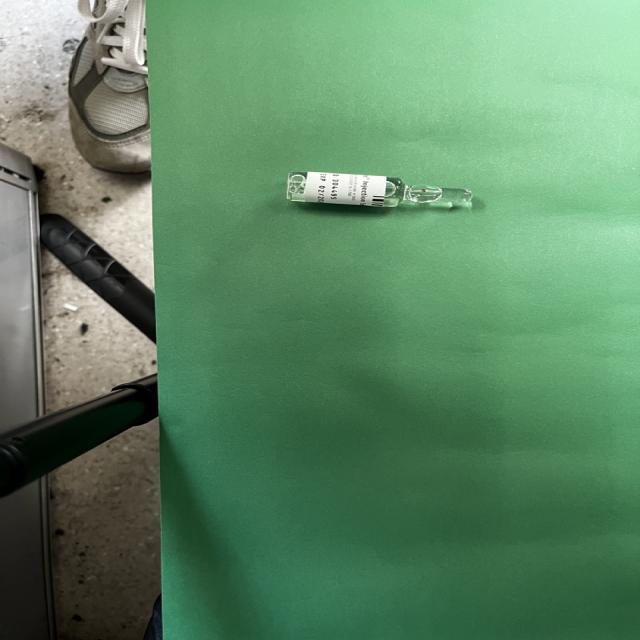Ampoules: (286, 172, 472, 208)
